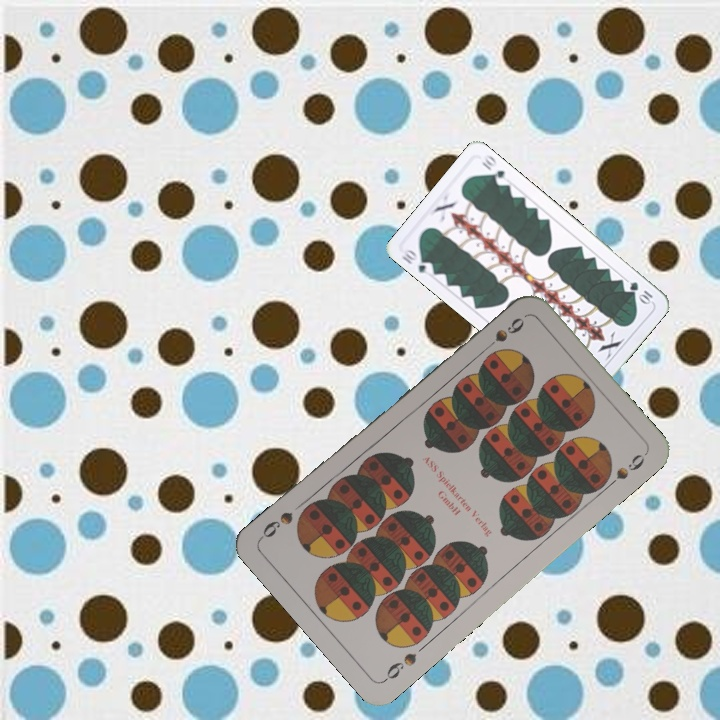G10: (397, 244, 437, 278), (625, 277, 655, 308)
S9: (478, 313, 528, 355), (380, 648, 420, 685)
